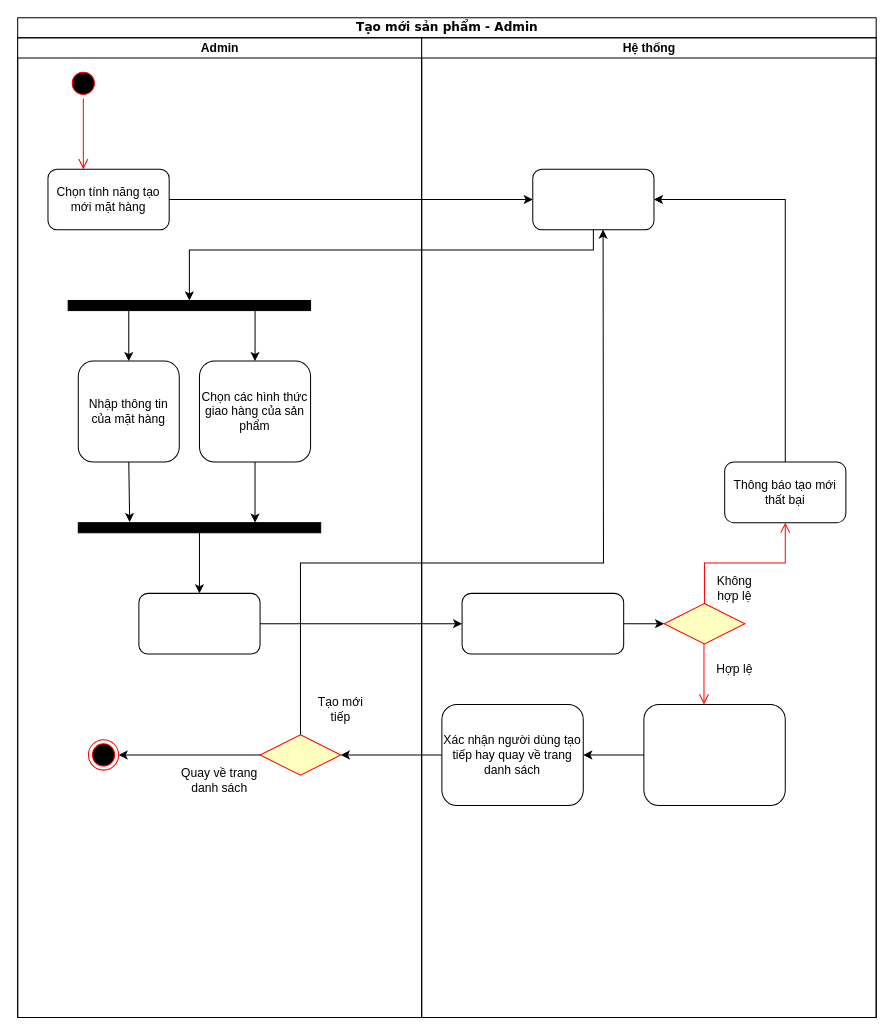
This 894x1035 diagram has some shape labels left out. Each missing label, with the centre of its shape:
"Chọn xác nhận tạo mới sản phẩm" belongs at point (199, 623).
"Hiển thị giao diện tạo mới mặt hàng" belongs at point (593, 199).
"Hiển thị thông báo tạo mới thành công" belongs at point (714, 754).
"Kiểm tra tính hợp lệ của các trường thông tin" belongs at point (542, 623).
